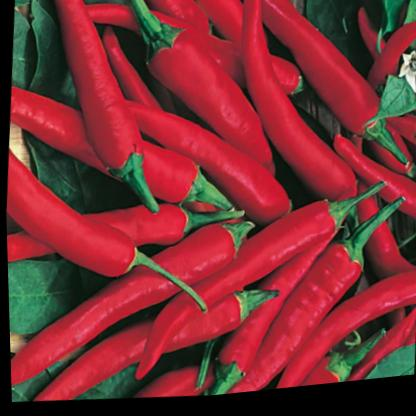--: (125, 171, 393, 403), (3, 104, 219, 332), (219, 0, 389, 243), (15, 0, 175, 233)
